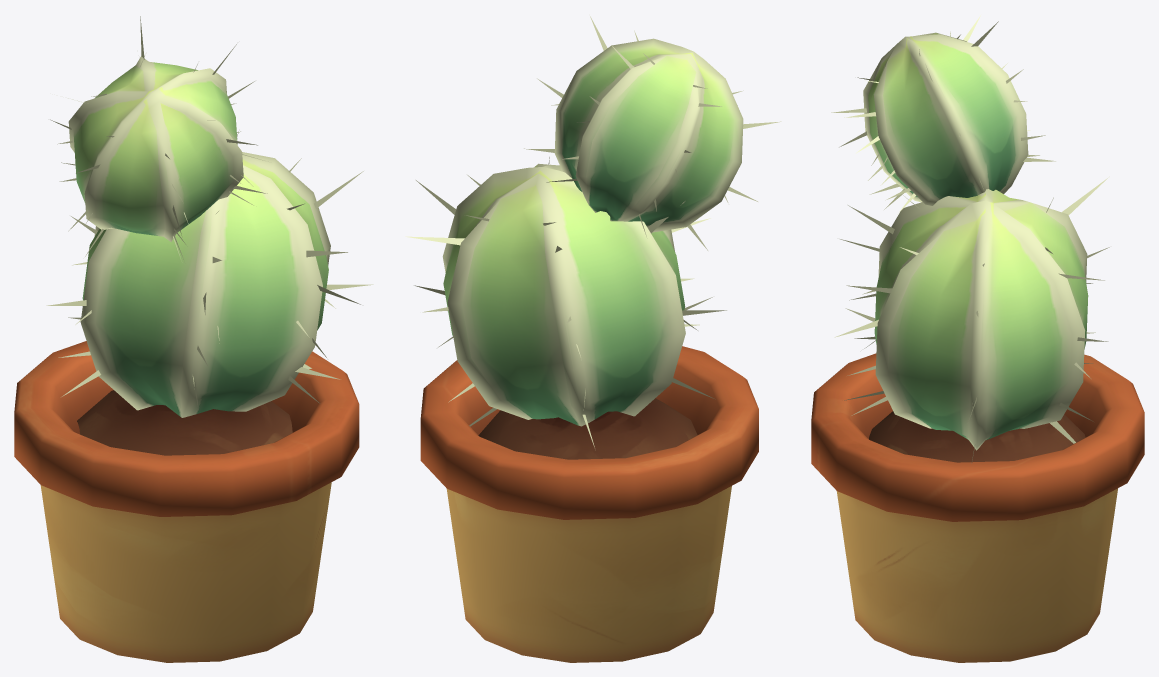
The model's file is Cactus.fbx.
3 renders of one model, left to right at view 1: azimuth 30°, elevation 25°; view 2: azimuth 150°, elevation 25°; view 3: azimuth 270°, elevation 25°, orthographic. The views are drawn at different scales.
Visible parts, largest first — view 1: Cactus; view 2: Cactus; view 3: Cactus.
Part boxes in pixels (left/top/right/bottom): Cactus: left=14, top=16, right=373, bottom=662; Cactus: left=405, top=16, right=781, bottom=662; Cactus: left=811, top=15, right=1144, bottom=662.
Bounding box in the file's own units: 7.65 × 12.84 × 6.75.
